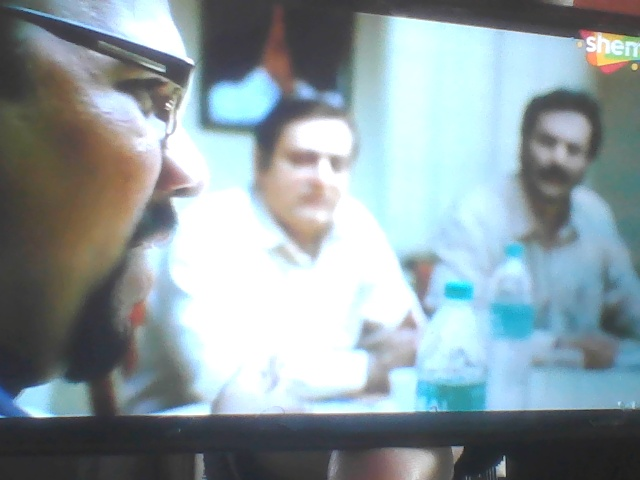fake: (254, 87, 363, 241)
